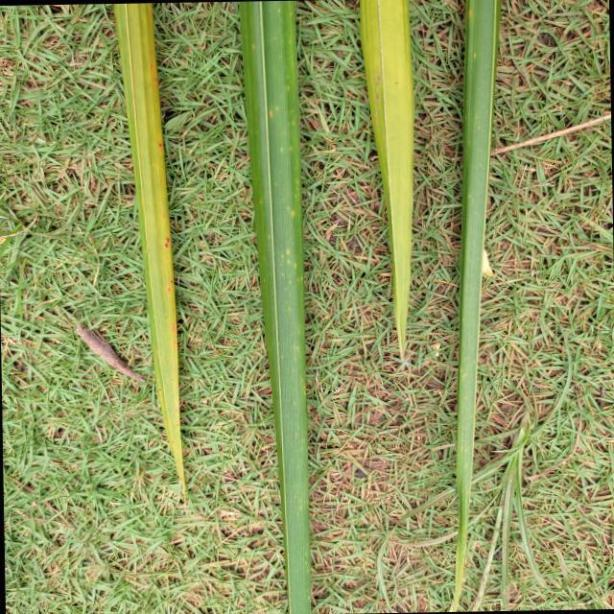nitrogen: (236, 0, 314, 614), (115, 0, 195, 502), (348, 0, 423, 394), (454, 0, 493, 614)
